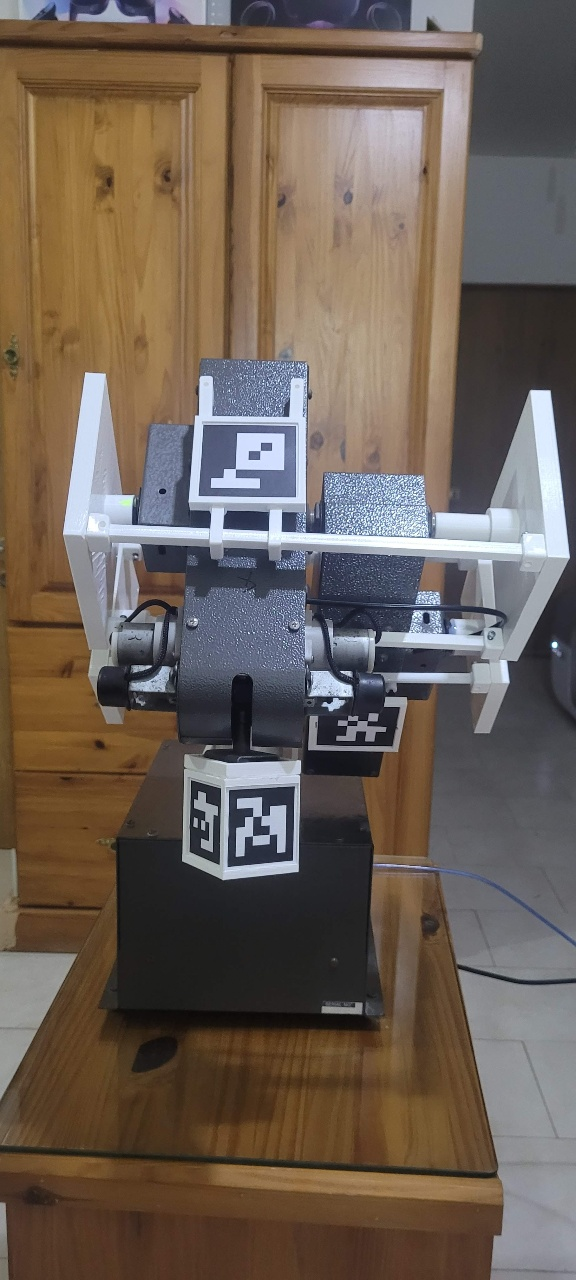Robot: (61, 357, 571, 882)
